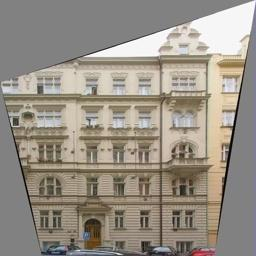building: (0, 26, 210, 253)
